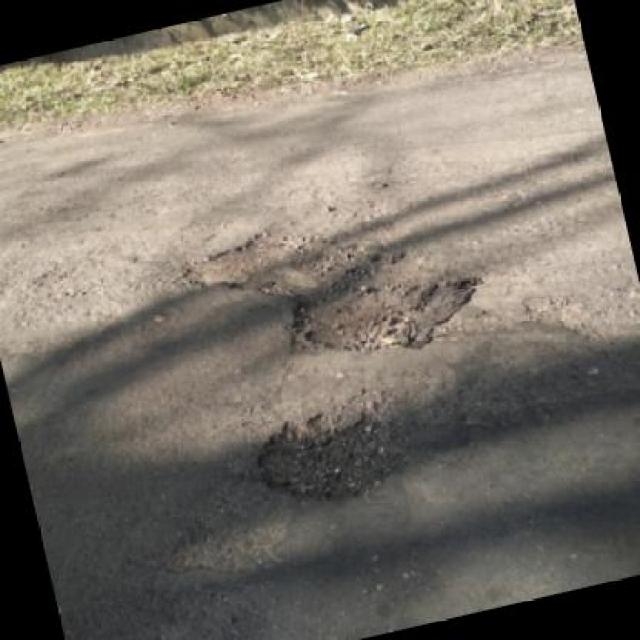pothole1: (172, 180, 468, 392), (242, 390, 418, 521)
